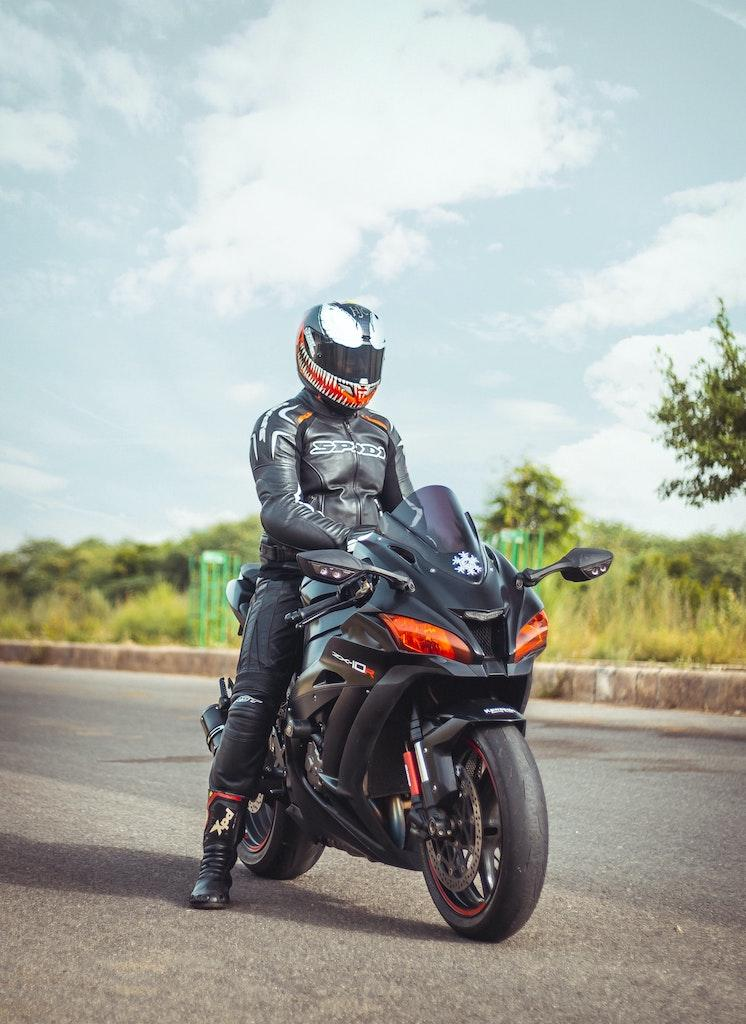helmet: (295, 300, 387, 417)
